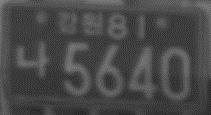0: (158, 46, 191, 100)
1: (132, 16, 151, 38)
4: (129, 46, 158, 99)
5: (62, 41, 91, 95)
6: (95, 44, 125, 97)
8: (106, 14, 127, 39)
강원_O: (56, 10, 103, 35)
나: (16, 41, 50, 77)
